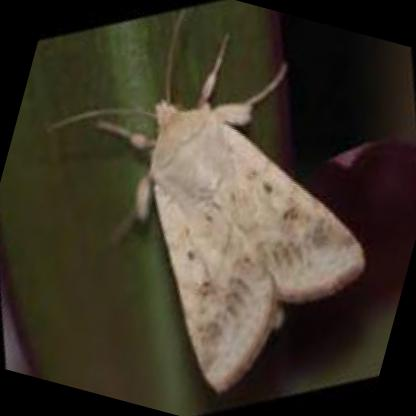helicoverpa: (94, 34, 364, 389)
